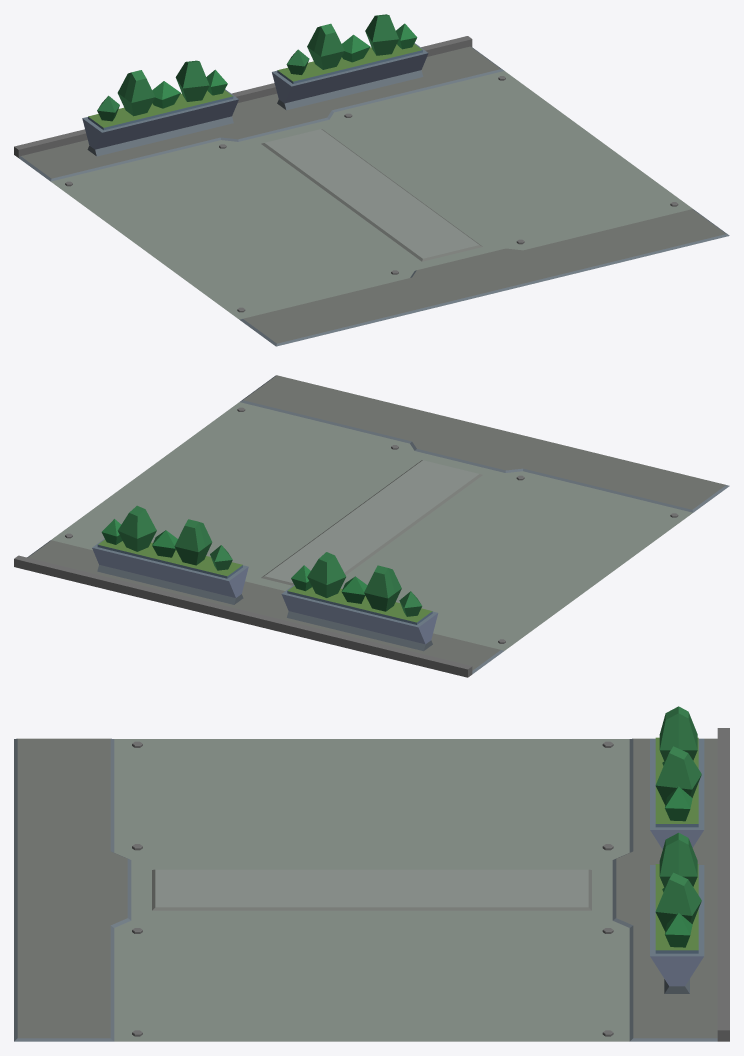
The model's file is OpenRoad_B.gltf.
3 views of the same model, one above another, from view 1: azimuth 30°, elevation 25°; view 2: azimuth 150°, elevation 25°; view 3: azimuth 270°, elevation 25° (orthographic). The views are drawn at different scales.
Visible parts, largest first — view 1: Scifi_Panel_01 Plaza014_group4.002; view 2: Scifi_Panel_01 Plaza014_group4.002; view 3: Scifi_Panel_01 Plaza014_group4.002.
Boxes of the visible parts, x1,y1,x2,y2 form: Scifi_Panel_01 Plaza014_group4.002: [14, 14, 729, 346]; Scifi_Panel_01 Plaza014_group4.002: [14, 375, 729, 677]; Scifi_Panel_01 Plaza014_group4.002: [14, 706, 729, 1041].
Size of what is drawn, in the model's own units: 10 by 1.52 by 10.
Materials: 1 (1 with a texture image).
